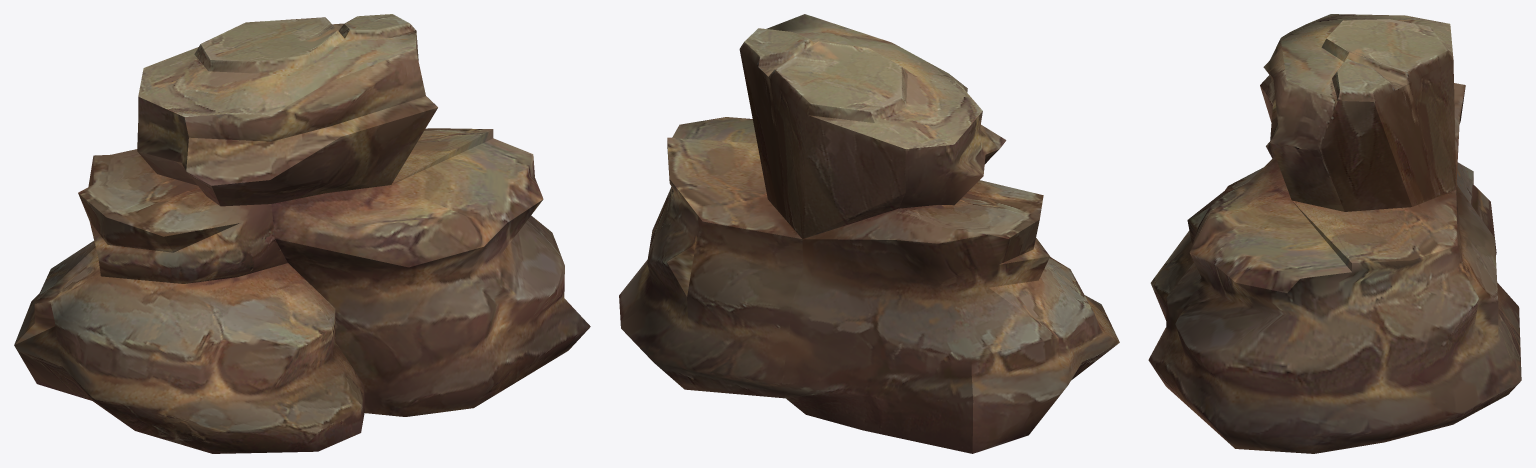
Rendered from Stone_4.FBX.
3 renders of one model, left to right at view 1: azimuth 30°, elevation 25°; view 2: azimuth 150°, elevation 25°; view 3: azimuth 270°, elevation 25°, orthographic. The views are drawn at different scales.
Visible parts, largest first — view 1: Stone_4; view 2: Stone_4; view 3: Stone_4.
Part boxes in pixels (x1,y1,x2,y2): Stone_4: [14, 14, 590, 453]; Stone_4: [619, 14, 1119, 453]; Stone_4: [1148, 14, 1521, 453].
Size of the model in its own units: 648 by 416 by 435.
